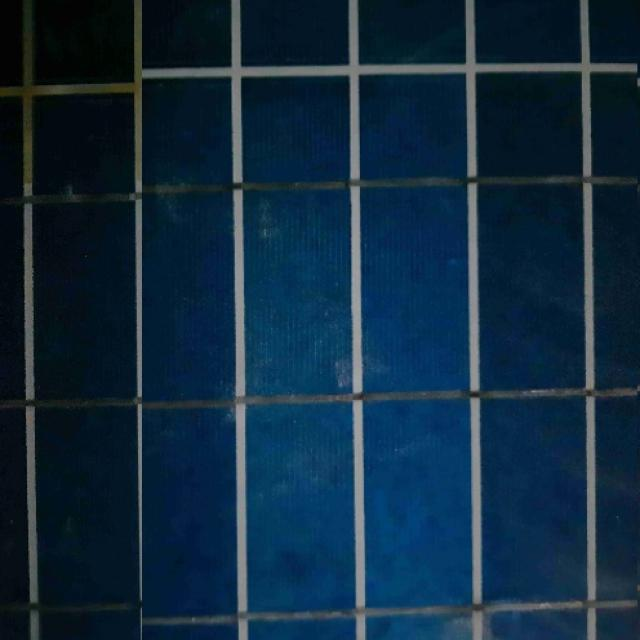Dirty: (142, 0, 639, 640)
